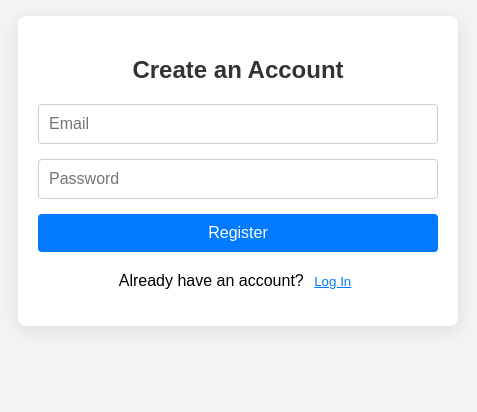
Register Component › shows an error message for invalid password
# Enter an invalid password
Type "test@example.com" into the field with placeholder "Email" at (238, 124), box [38,104,438,144]
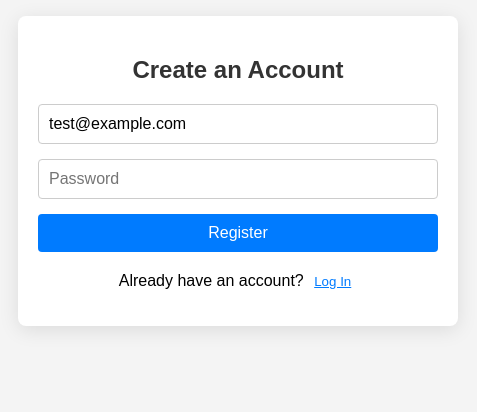
# Weak password that doesn't meet criteria
Type "weak" into the password field with placeholder "Password" at (238, 179), box [38,159,438,199]
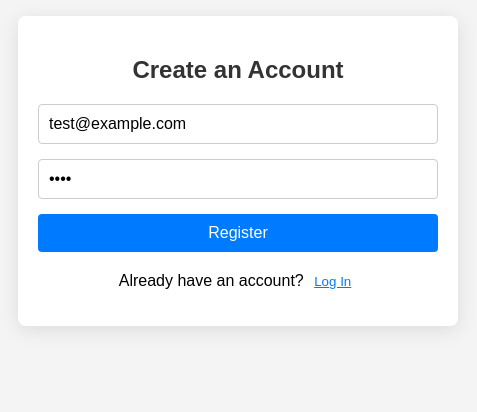
Click the button "Register" at (238, 233), box [38,214,438,252]
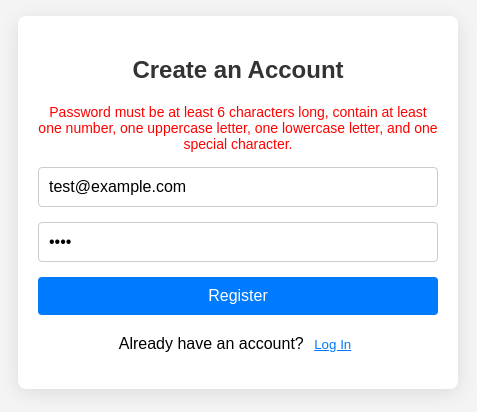
Result: the text "Password must be at least 6 characters long, contain at least one number, one uppercase letter, one lowercase letter, an" is shown at [38,104,438,152]
